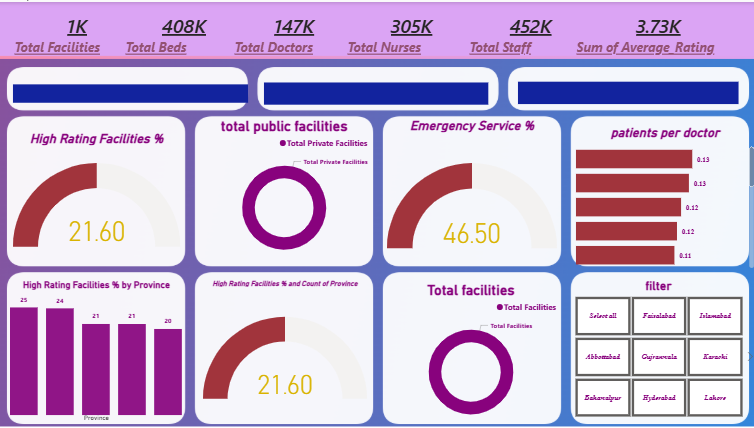

The dashboard page shown, as its layout file describes it:
{"tool":"powerbi","page":{"name":"Page 1","canvas":[1280,720],"ordinal":0},"visuals":[{"type":"cardVisual","fields":{"Data":["Pakistan_Healthcare_Data.Total Facilities"]},"box":[0,0,267.1,107.5],"z":1000},{"type":"cardVisual","fields":{"Data":["Pakistan_Healthcare_Data.Total Beds"]},"box":[186.5,0,253.6,107.5],"z":2000},{"type":"cardVisual","fields":{"Data":["Pakistan_Healthcare_Data.Total Doctors"]},"box":[371.2,0,257,107.5],"z":3000},{"type":"cardVisual","fields":{"Data":["Pakistan_Healthcare_Data.Total Nurses"]},"box":[561,0,272.1,107.5],"z":4000},{"type":"cardVisual","fields":{"Data":["Pakistan_Healthcare_Data.Total Staff"]},"box":[767.7,0,262,107.5],"z":5000},{"type":"cardVisual","fields":{"Data":["Sum(Pakistan_Healthcare_Data.Average_Rating)"]},"box":[947.4,0,332.6,107.5],"z":6000},{"type":"donutChart","title":"Total facilities","fields":{"Y":["Pakistan_Healthcare_Data.Total Facilities"]},"box":[649.3,472.2,296.8,247.9],"z":7000},{"type":"clusteredBarChart","fields":{"Y":["Pakistan_Healthcare_Data.Total Facilities"]},"box":[20.2,84,406.5,134.4],"z":8000},{"type":"donutChart","title":"total public facilities","fields":{"Y":["Pakistan_Healthcare_Data.Total Private Facilities"]},"box":[337.6,194.9,290.6,246.9],"z":9000},{"type":"clusteredBarChart","fields":{"Y":["Pakistan_Healthcare_Data.Total Private Facilities"]},"box":[443.5,72.5,392.9,158.5],"z":10000},{"type":"gauge","fields":{"Y":["Pakistan_Healthcare_Data.Emergency Service %"]},"box":[651,195.6,296.8,271.5],"z":11000},{"type":"clusteredBarChart","fields":{"Y":["Pakistan_Healthcare_Data.Nurses per 100 Beds"]},"box":[871.8,70.6,408.2,159.6],"z":13000},{"type":"clusteredBarChart","title":"patients per doctor","fields":{"Y":["Pakistan_Healthcare_Data.Patients per Doctor"],"Category":["Pakistan_Healthcare_Data.City"]},"box":[969.7,207.4,310.3,246.2],"z":14000},{"type":"gauge","fields":{"Y":["Pakistan_Healthcare_Data.High Rating Facilities %"]},"box":[340.7,467.1,286.7,253],"z":18000},{"type":"gauge","fields":{"Y":["Pakistan_Healthcare_Data.High Rating Facilities %"]},"box":[20.2,218.4,292.3,225.1],"z":19000},{"type":"clusteredColumnChart","fields":{"Y":["Pakistan_Healthcare_Data.High Rating Facilities %"],"Category":["Pakistan_Healthcare_Data.Province"]},"box":[20.2,467.1,291.8,239.5],"z":20000},{"type":"slicer","title":"filter","fields":{"Values":["Pakistan_Healthcare_Data.City"]},"box":[947.8,467.1,332.2,239.5],"z":21000}]}

Visuals, with their boxes in screenshot pixels (x1, y1, x2, y2), scaled from the page's 1280x720 canvas onto the 754x428 screenshot:
cardVisual - Pakistan_Healthcare_Data.Total Facilities: bbox=(0, 0, 157, 64)
cardVisual - Pakistan_Healthcare_Data.Total Beds: bbox=(110, 0, 259, 64)
cardVisual - Pakistan_Healthcare_Data.Total Doctors: bbox=(219, 0, 370, 64)
cardVisual - Pakistan_Healthcare_Data.Total Nurses: bbox=(330, 0, 491, 64)
cardVisual - Pakistan_Healthcare_Data.Total Staff: bbox=(452, 0, 607, 64)
cardVisual - Sum(Pakistan_Healthcare_Data.Average_Rating): bbox=(558, 0, 753, 64)
"Total facilities" donutChart: bbox=(382, 281, 557, 427)
clusteredBarChart - Pakistan_Healthcare_Data.Total Facilities: bbox=(12, 50, 251, 130)
"total public facilities" donutChart: bbox=(199, 116, 370, 263)
clusteredBarChart - Pakistan_Healthcare_Data.Total Private Facilities: bbox=(261, 43, 493, 137)
gauge - Pakistan_Healthcare_Data.Emergency Service %: bbox=(383, 116, 558, 278)
clusteredBarChart - Pakistan_Healthcare_Data.Nurses per 100 Beds: bbox=(514, 42, 753, 137)
"patients per doctor" clusteredBarChart: bbox=(571, 123, 753, 270)
gauge - Pakistan_Healthcare_Data.High Rating Facilities %: bbox=(201, 278, 370, 427)
gauge - Pakistan_Healthcare_Data.High Rating Facilities %: bbox=(12, 130, 184, 264)
clusteredColumnChart - Pakistan_Healthcare_Data.High Rating Facilities % x Pakistan_Healthcare_Data.Province: bbox=(12, 278, 184, 420)
"filter" slicer: bbox=(558, 278, 753, 420)
